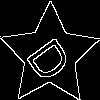D: (24, 30, 81, 86)
